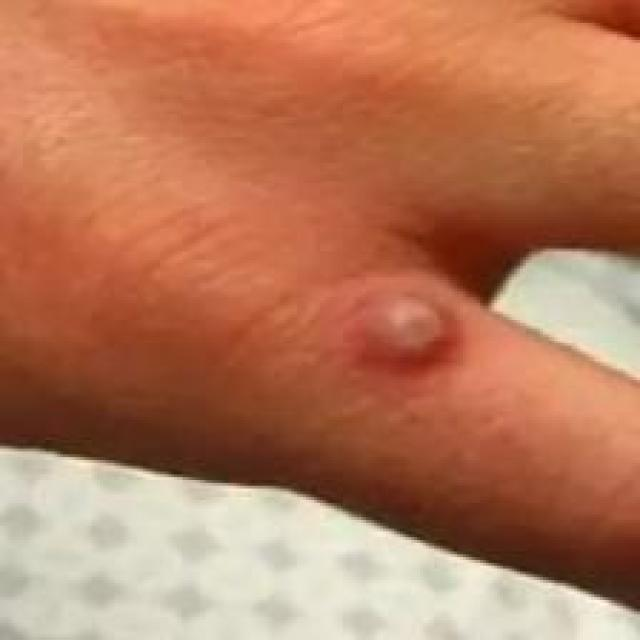monkeypox: (0, 27, 640, 508)
